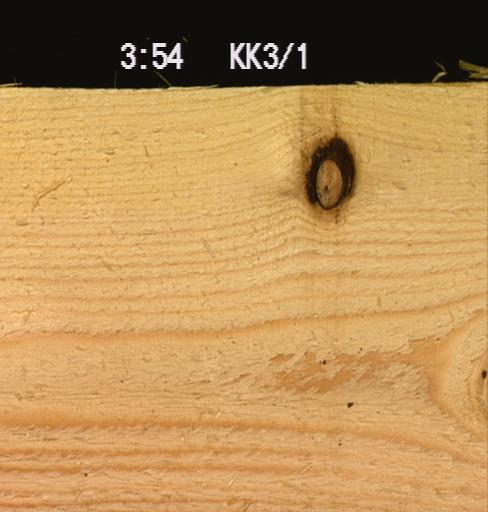small_knot: (478, 366, 487, 380)
